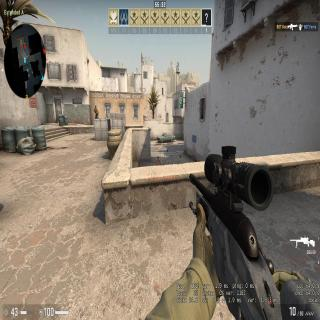T-Body: (94, 105, 98, 118), (155, 156, 161, 164)
T-Head: (157, 156, 159, 160), (95, 105, 96, 109)
